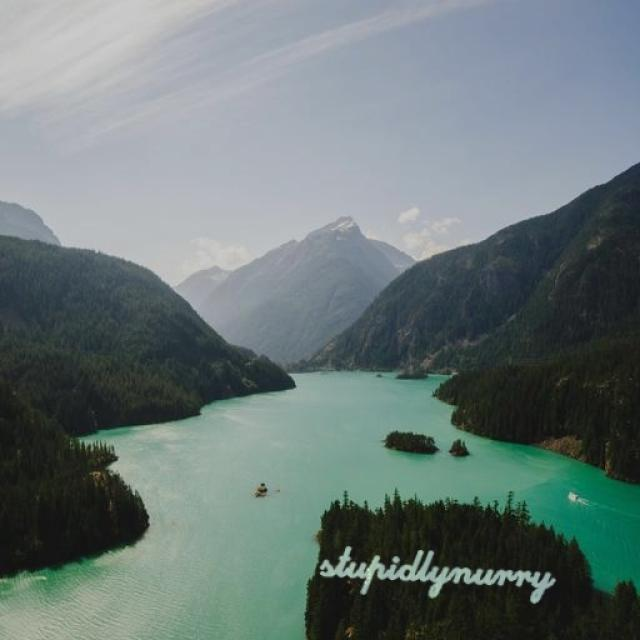watermark: (312, 544, 582, 593)
